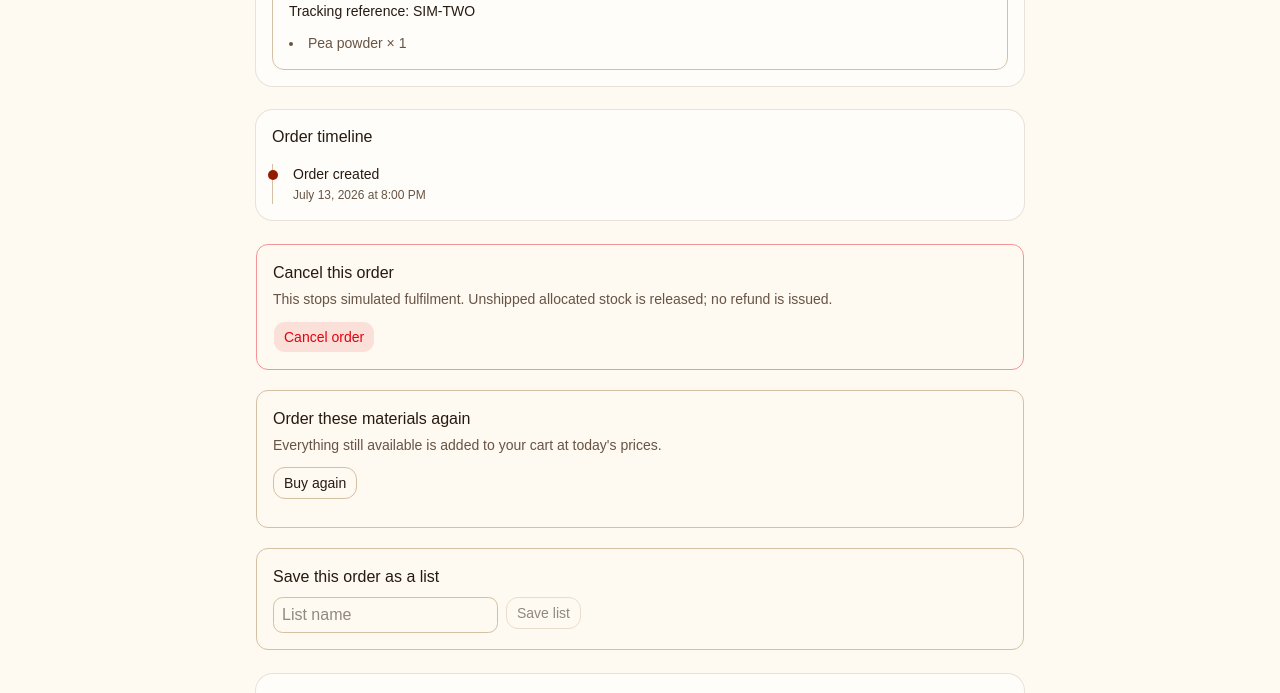
Test: customer order UI › refreshes rather than claiming cancellation when server reports stale state
(page scrolled)
Click the button "Cancel order" at (324,337), box [273, 321, 375, 353]
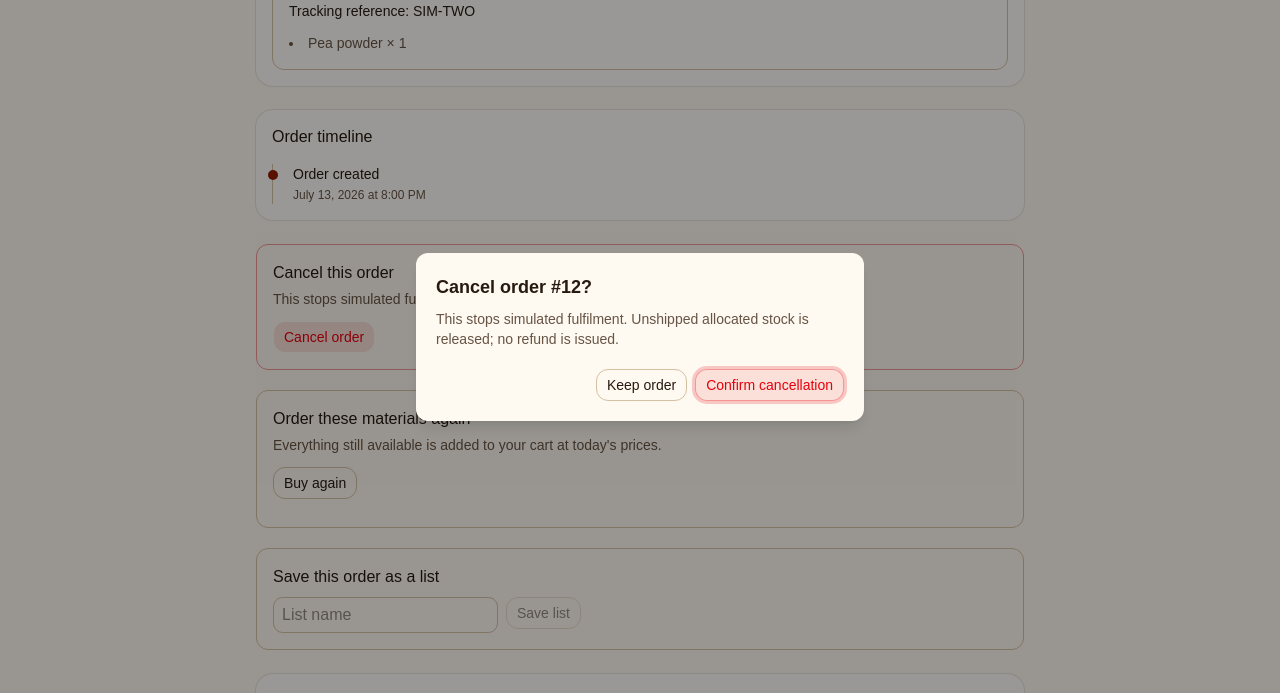
Click the button "Confirm cancellation" at (770,385), box [695, 369, 844, 401]
(page scrolled)
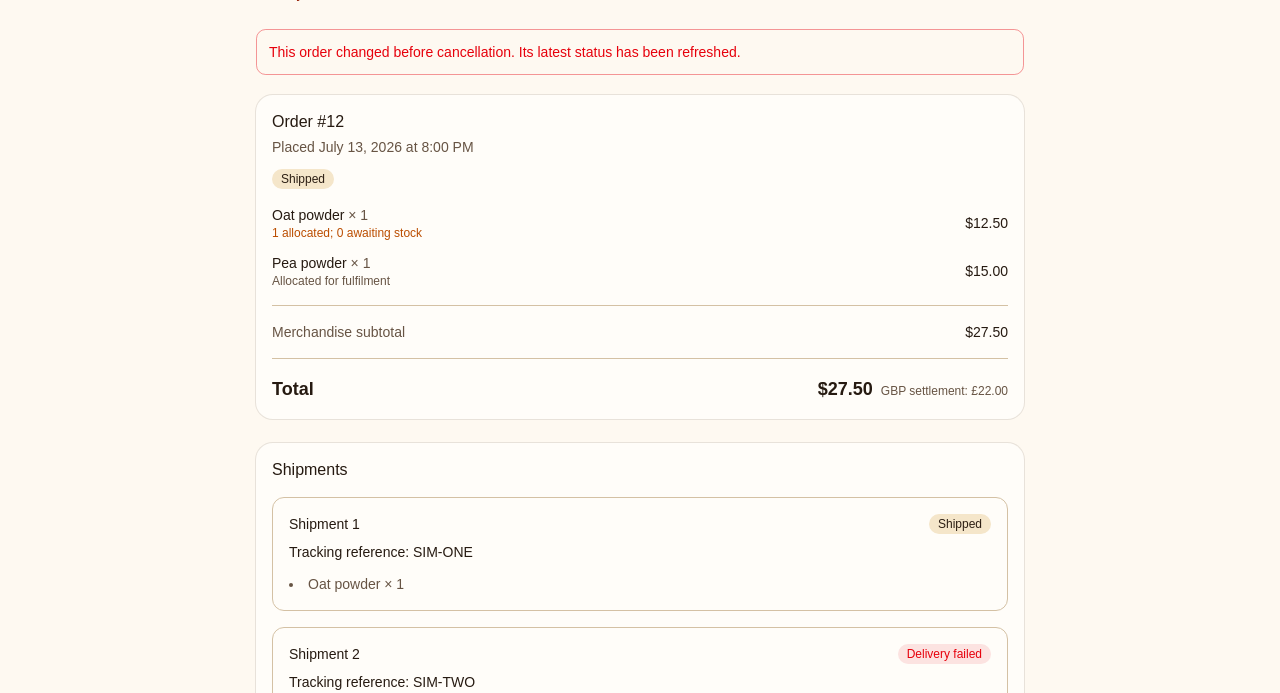
expect the message shows "This order changed before cancellation": met, box [269, 44, 741, 60]
expect the text named "Order status: Shipped" is shown: met, box [272, 169, 334, 189]
expect the button "Cancel order" is gone: met
